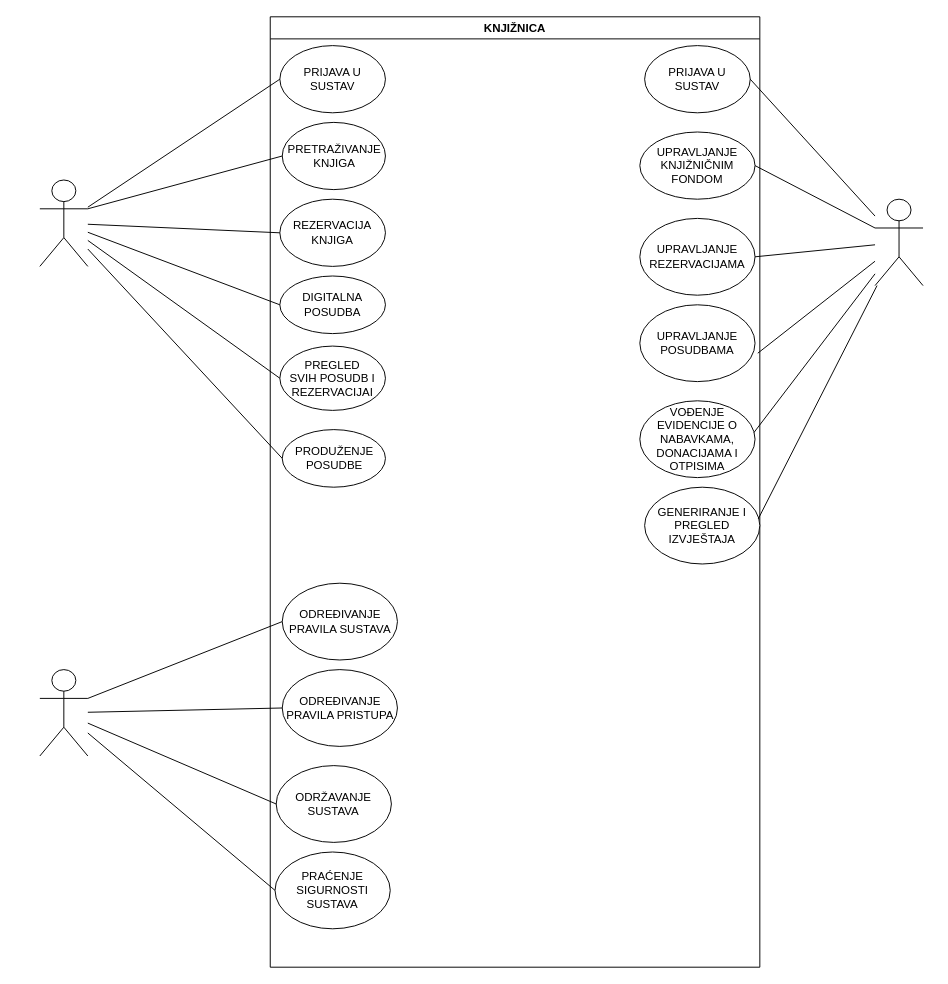
Some shapes in this 948 by 984 pixel diagram are drawn without their labels. Each missing label, with the centre of its shape:
ADMINISTRATOR: the point at 63,712
KNJŽNIČAR: the point at 898,242
STUDENT: the point at 63,222
